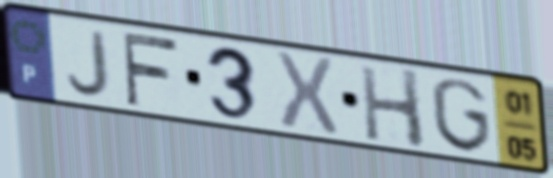3: (204, 42, 268, 126)
F: (118, 29, 182, 109)
G: (427, 75, 495, 156)
H: (356, 62, 429, 152)
J: (64, 27, 112, 100)
X: (270, 47, 342, 137)
